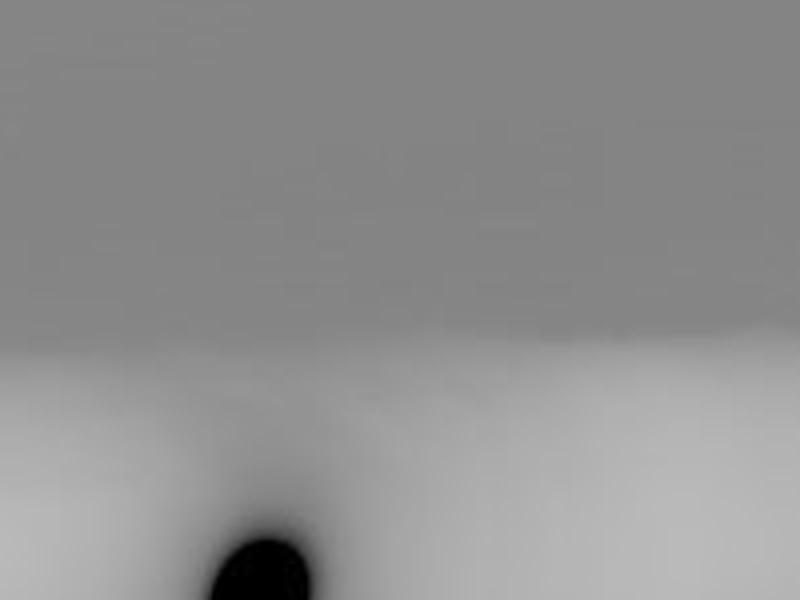defect: (206, 533, 316, 600)
